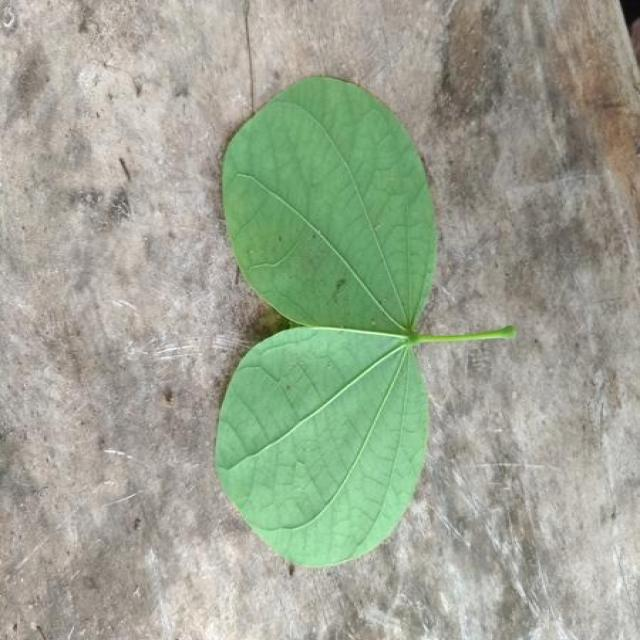Kambajala: (215, 76, 517, 566)
